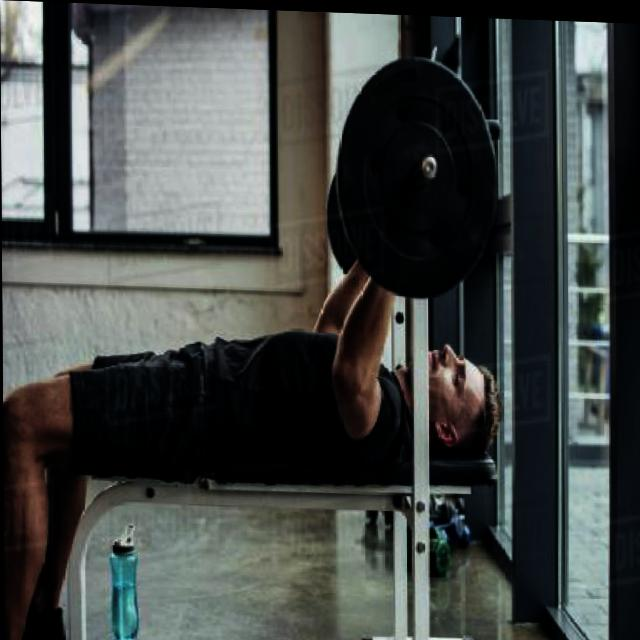barbell: (335, 47, 504, 300)
